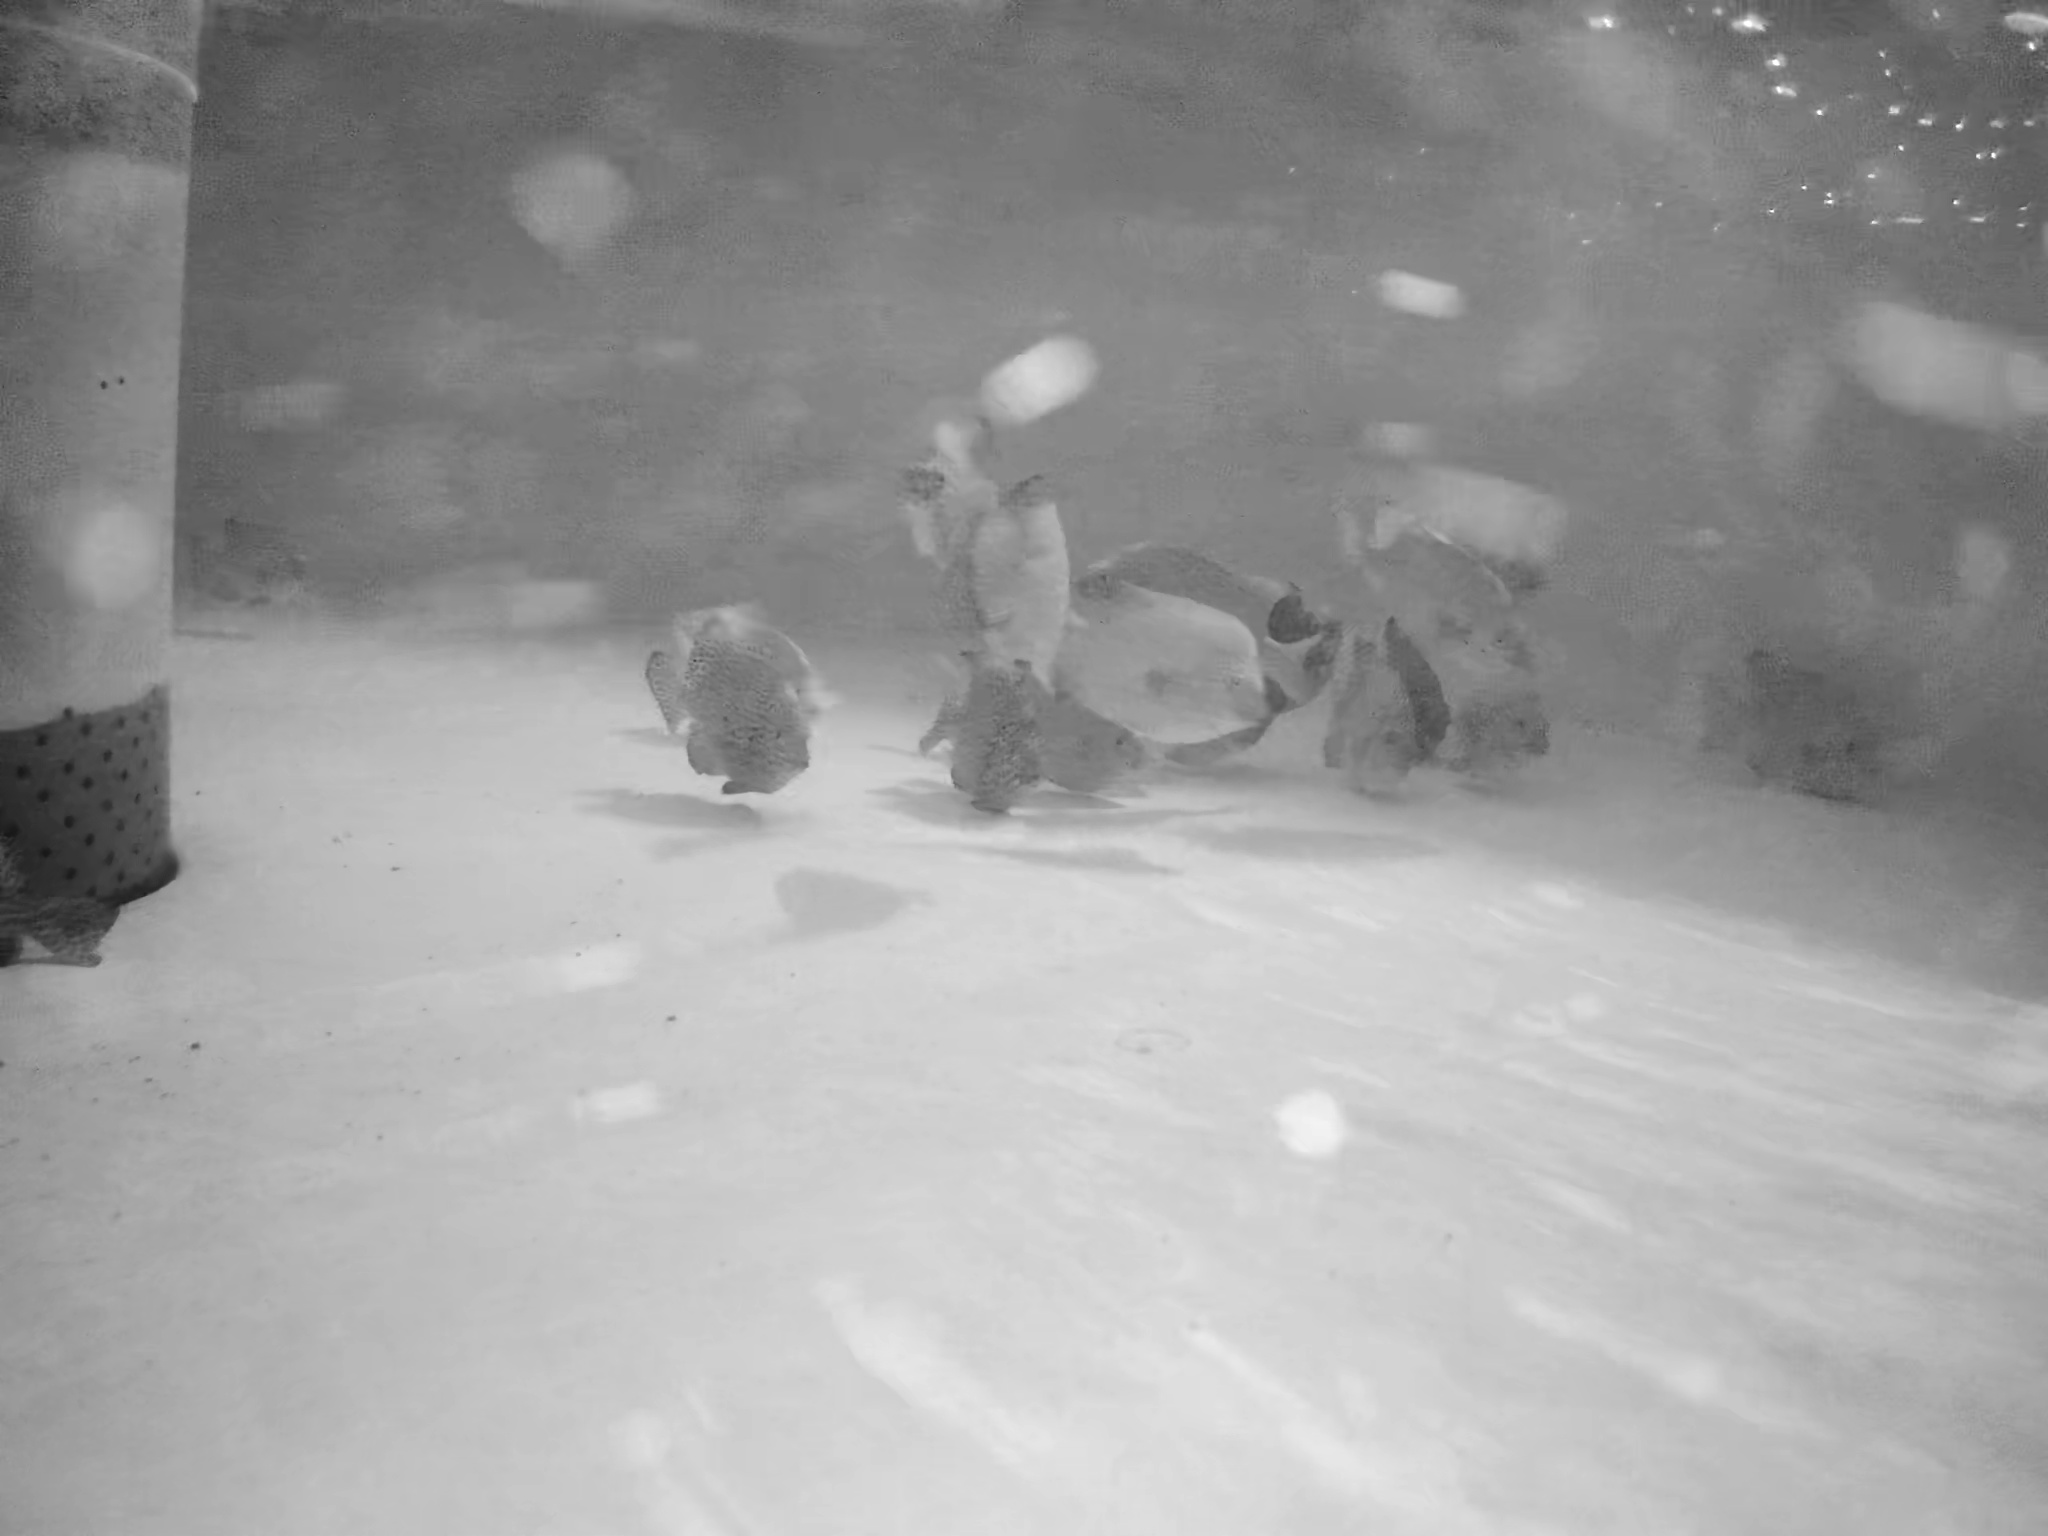fish: (1679, 636, 1880, 794), (1345, 513, 1537, 673), (1056, 571, 1245, 729), (635, 603, 816, 760), (968, 463, 1087, 679), (1106, 520, 1309, 645), (930, 671, 1143, 791), (1779, 636, 1959, 757), (655, 650, 806, 774), (1322, 637, 1414, 791), (900, 408, 985, 570), (1459, 674, 1556, 807), (189, 521, 308, 610), (1384, 628, 1458, 758), (956, 729, 1045, 833)
